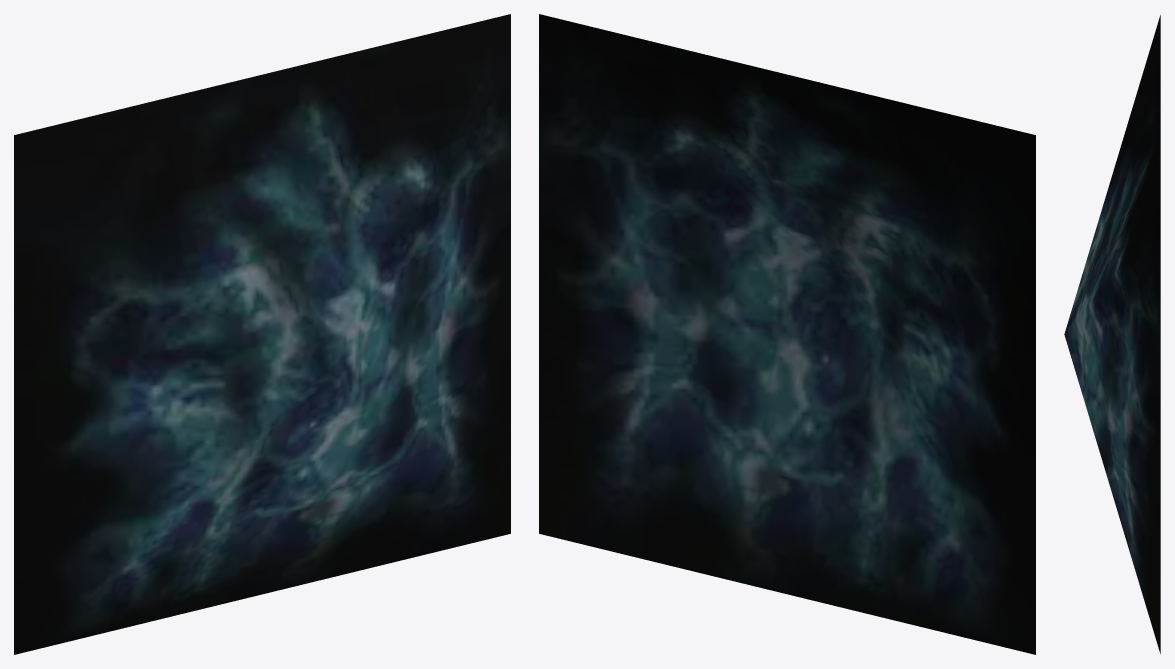
3 views of the same model, side by side, from view 1: azimuth 30°, elevation 25°; view 2: azimuth 150°, elevation 25°; view 3: azimuth 270°, elevation 25° (orthographic). The views are drawn at different scales.
Parts seen in each view (by area): view 1: model_Object23; view 2: model_Object23; view 3: model_Object23.
Part boxes in pixels (x1,y1,x2,y2): model_Object23: (14, 14, 510, 654); model_Object23: (539, 14, 1035, 654); model_Object23: (1064, 15, 1160, 653).
Bounding box in the file's own units: 1.2 × 1.2 × 0.2397.
Materials: 1 (1 with a texture image).
